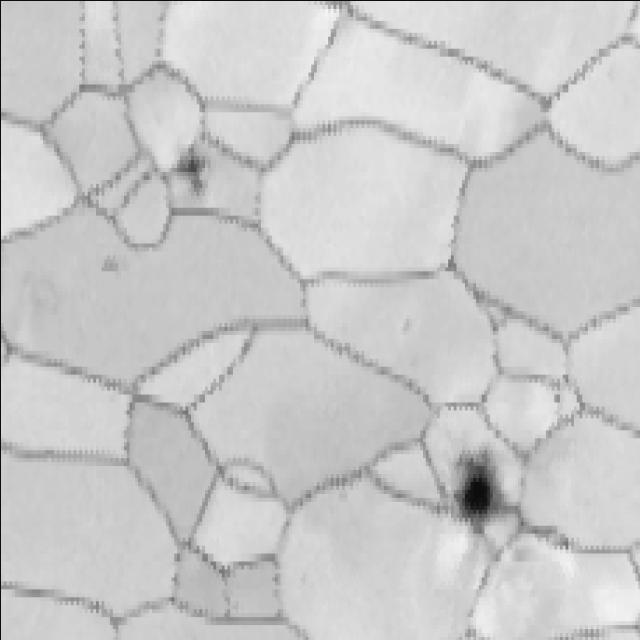good_void: (443, 432, 518, 547), (167, 130, 207, 196), (100, 251, 119, 276), (400, 315, 412, 337), (551, 388, 564, 408)
